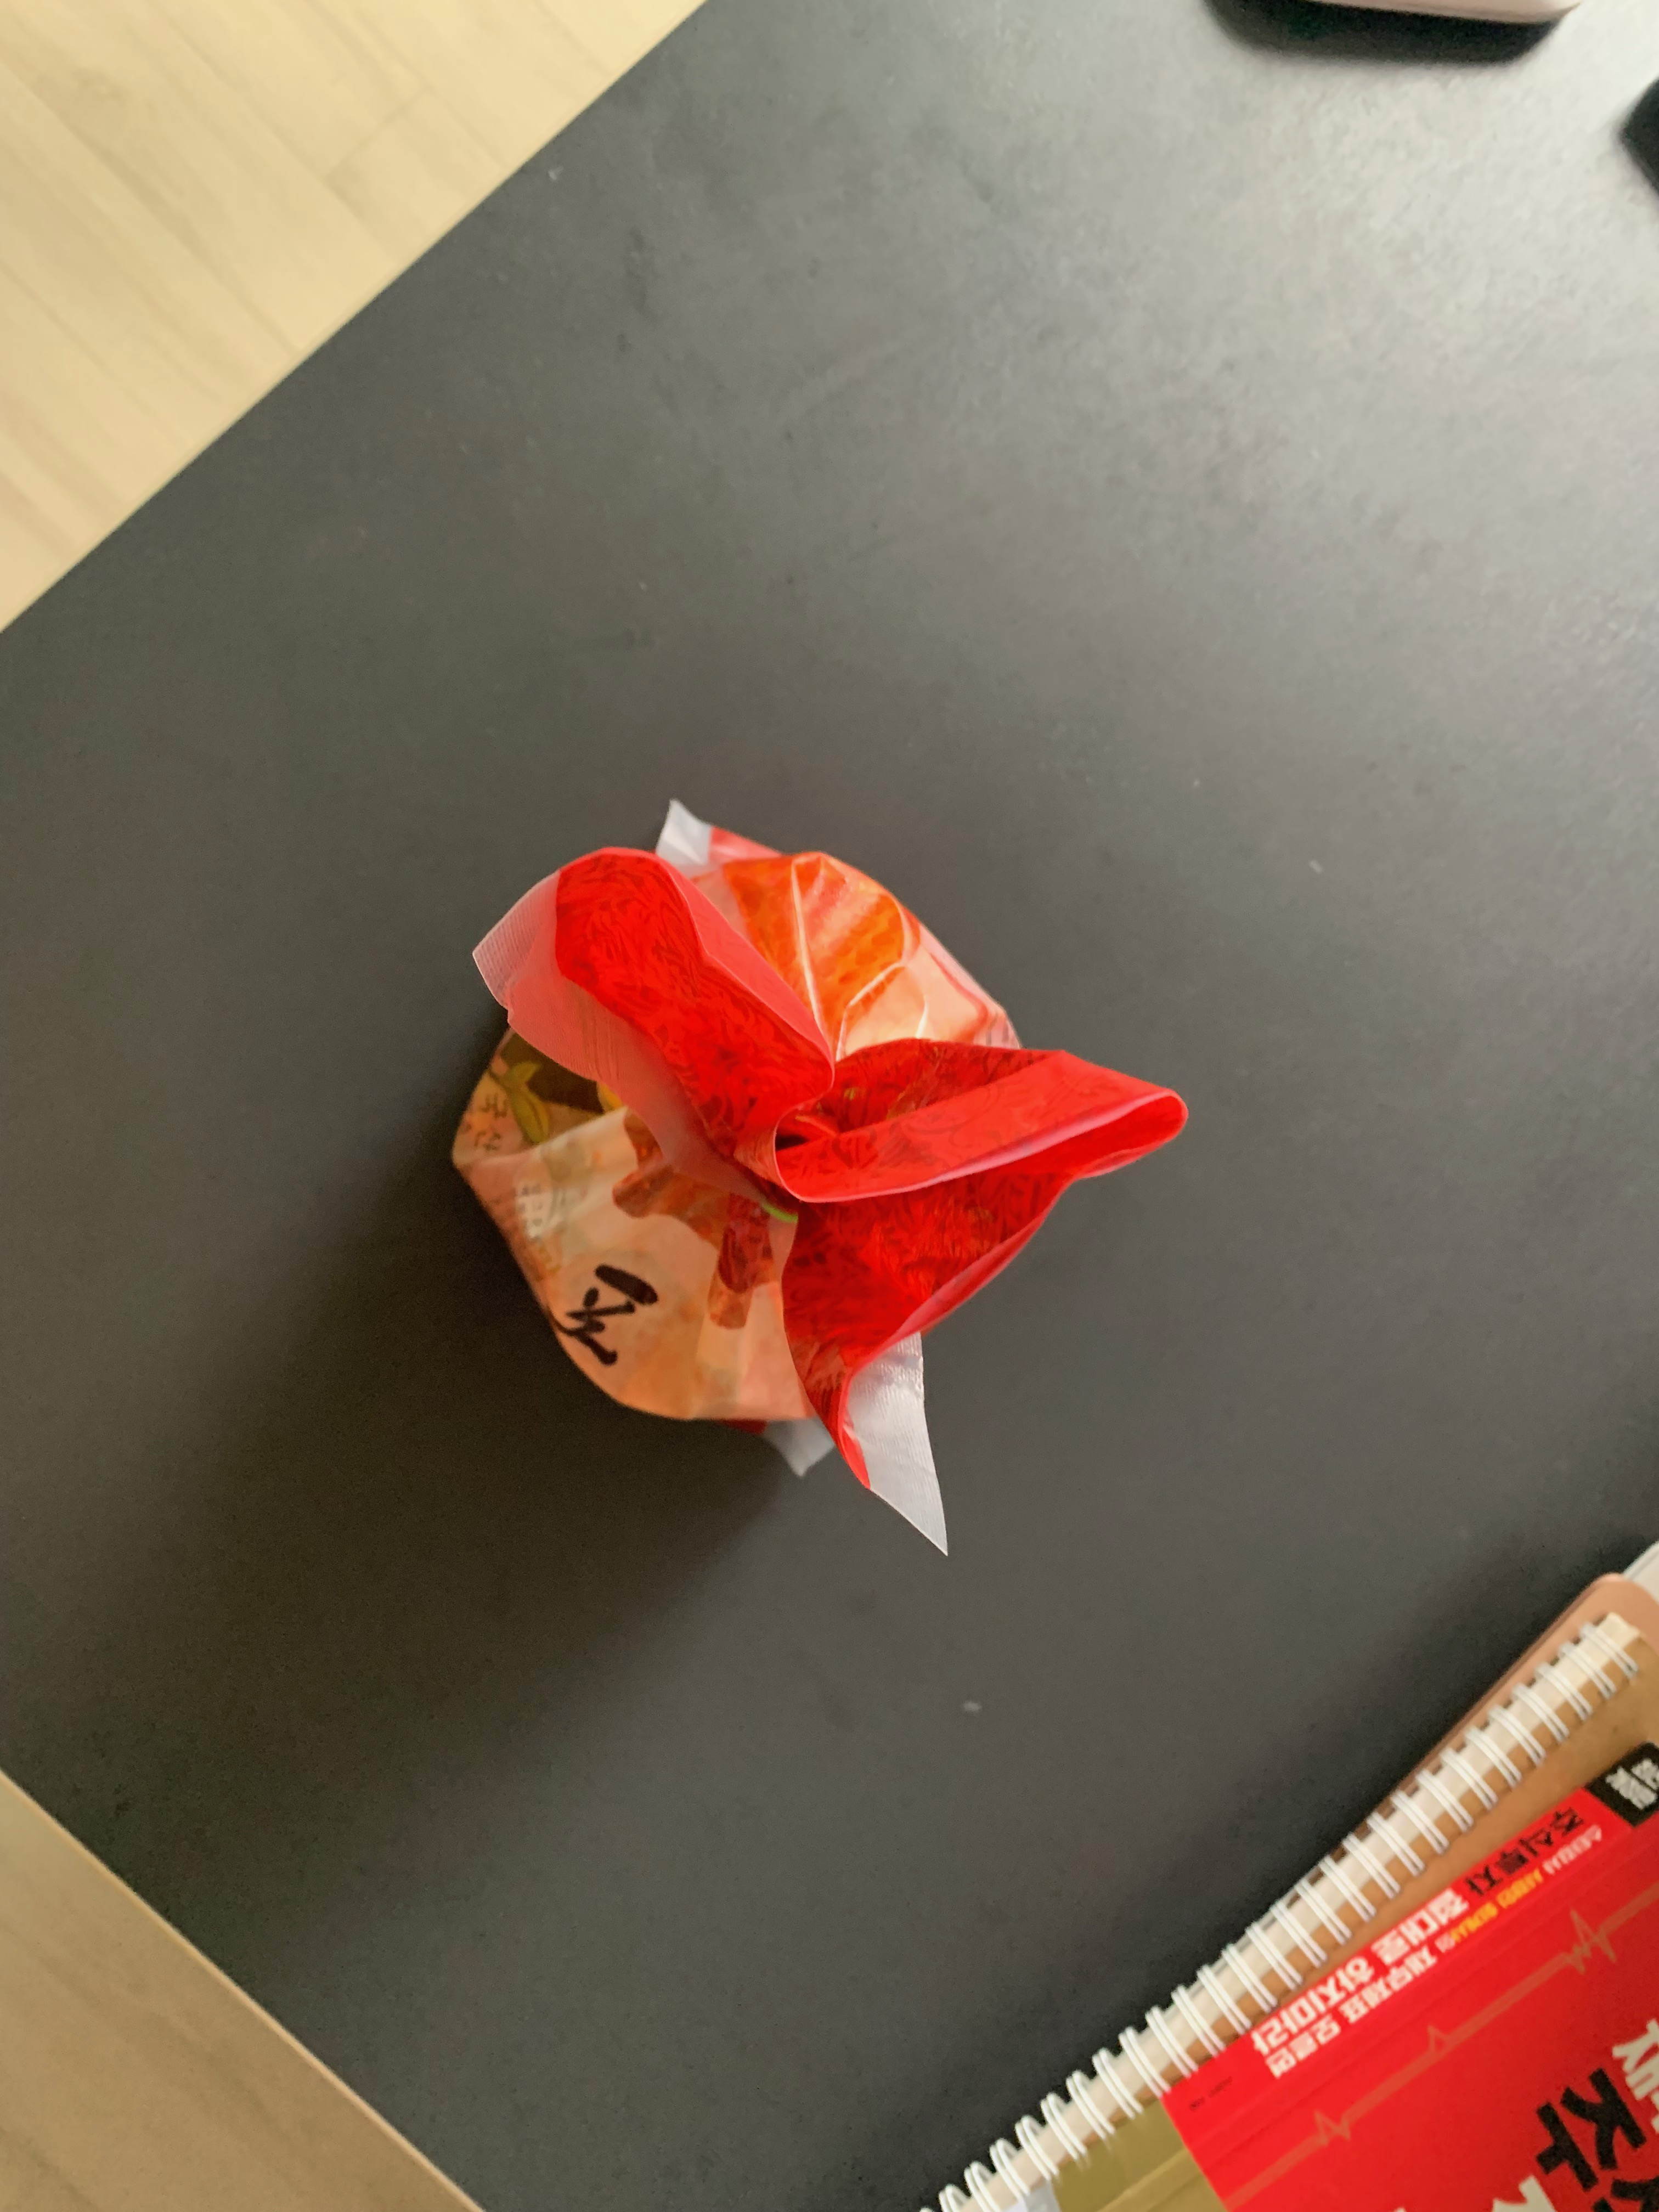kimchi: (457, 840, 1188, 1420)
